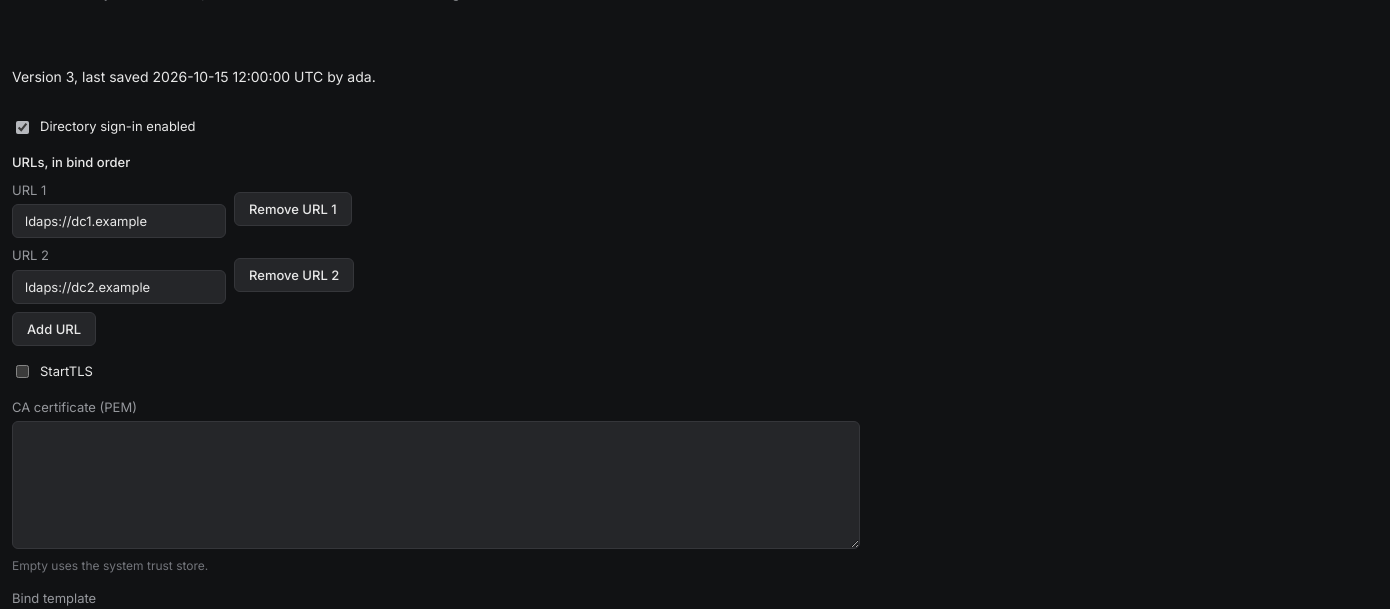
Test: DirectoryPage › keeps the typed form on 409 and reloads on request
Replace the text in the field labelled "URL 1" with "ldaps://typed.example". click: (119, 221)
box: [12, 204, 226, 238]
(page scrolled)
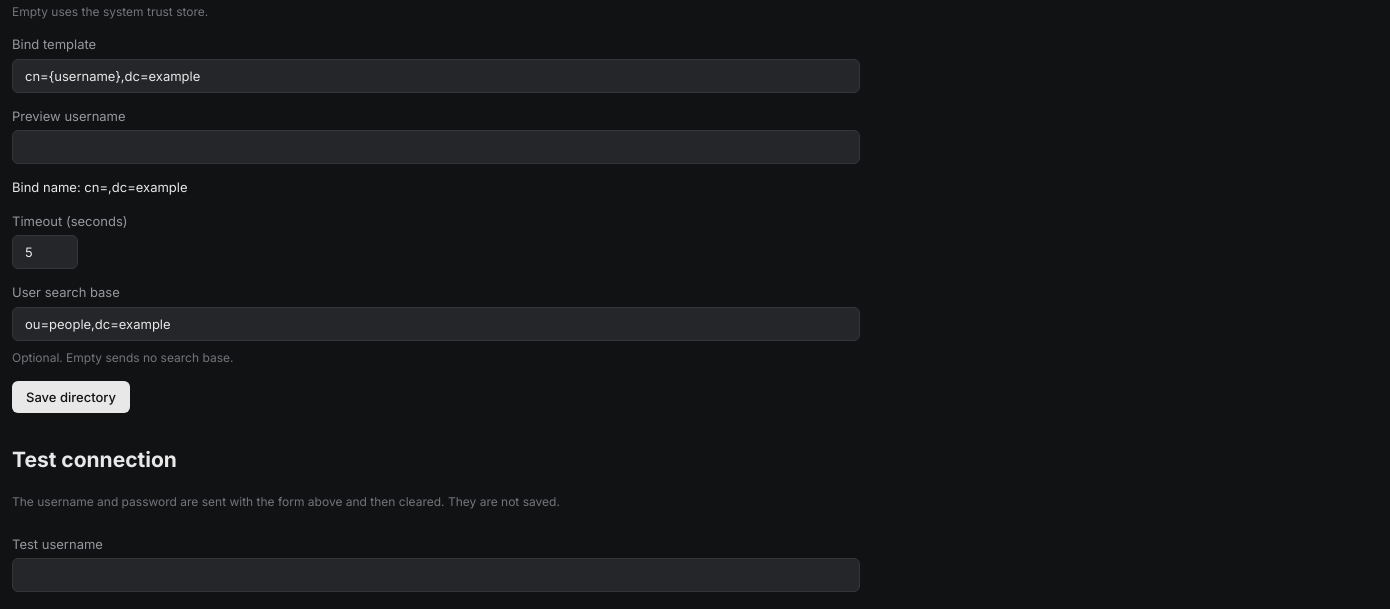
Click the button "Save directory". click: (71, 396)
box: [12, 380, 130, 412]
(page scrolled)
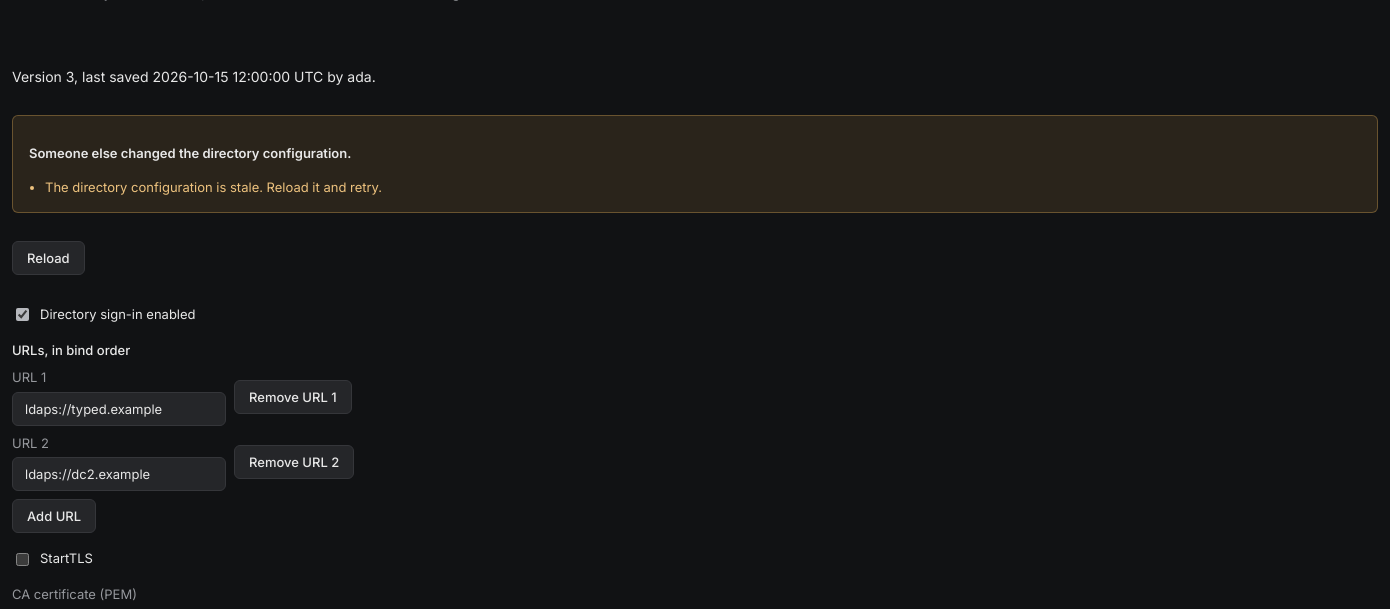
Now the message shows "Someone else changed the directory configuration.", box [29, 145, 351, 161]
Now the message shows "The directory configuration is stale. Reload it and retry.", box [45, 179, 382, 195]
Click the button "Reload". click: (48, 258)
box: [12, 241, 85, 275]
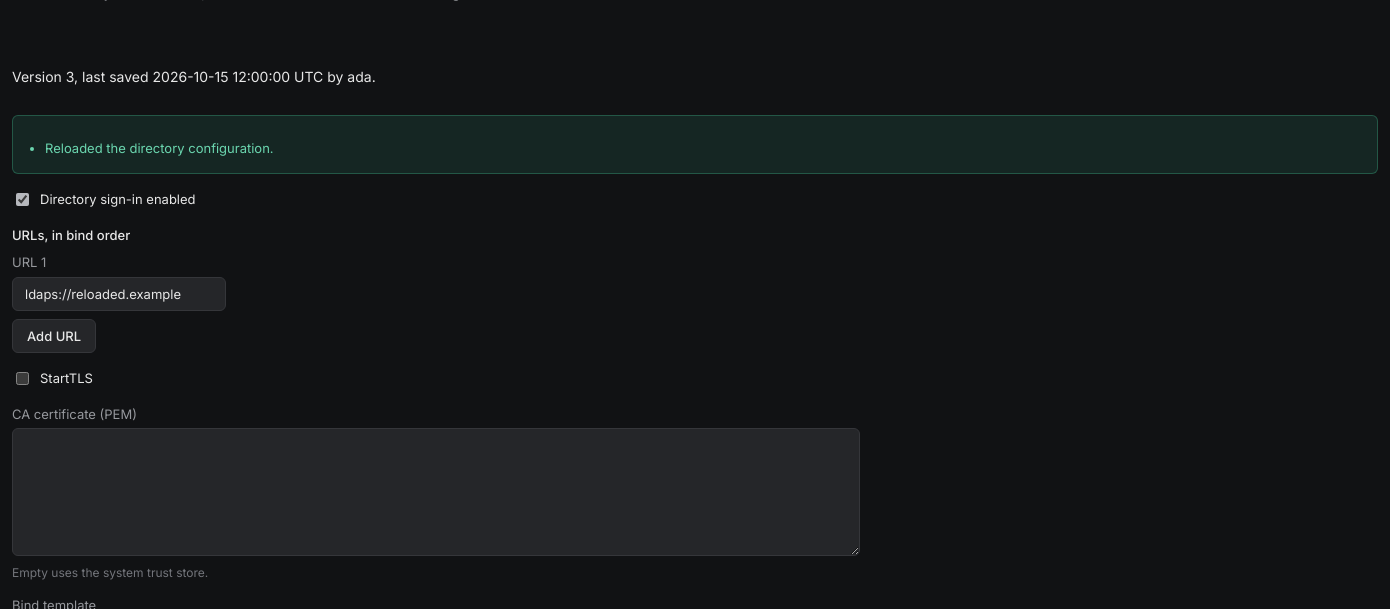
Now the list item "Reloaded the directory configuration." is shown, box [45, 138, 274, 159]
Now the field labelled "URL 1" holds "ldaps://reloaded.example", box [12, 277, 226, 311]
